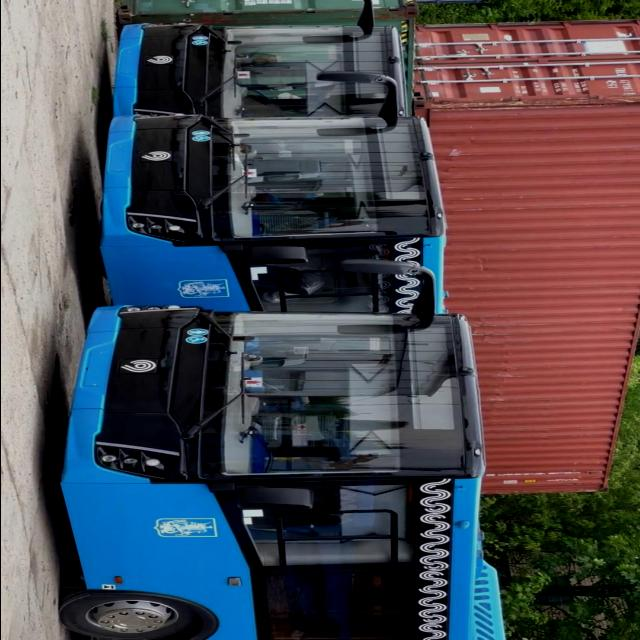bus: (50, 301, 506, 640), (94, 103, 452, 301), (108, 19, 420, 121)
